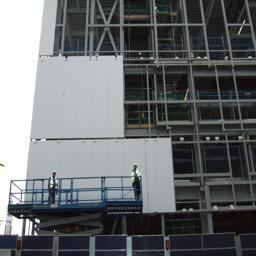hat: (49, 169, 62, 179), (131, 163, 141, 173)
vest: (128, 171, 147, 190), (45, 177, 62, 195)
